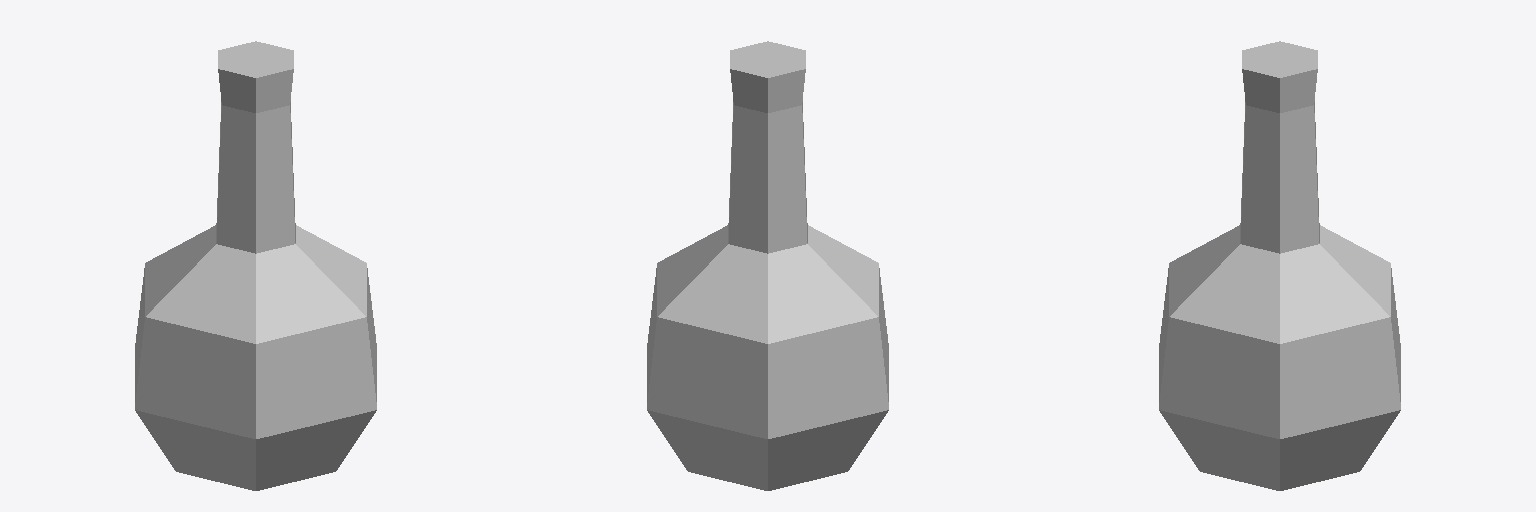
Rendered from green_bottle.obj.
3 views of the same model, side by side, from view 1: azimuth 30°, elevation 25°; view 2: azimuth 150°, elevation 25°; view 3: azimuth 270°, elevation 25° (orthographic).
Visible parts, largest first — view 1: material_0; view 2: material_0; view 3: material_0.
Boxes of the visible parts, <box> form: material_0: <box>135,41,376,490</box>; material_0: <box>647,41,888,490</box>; material_0: <box>1159,41,1400,490</box>.
Size of the model in its own units: 16.18 by 24.99 by 14.01.